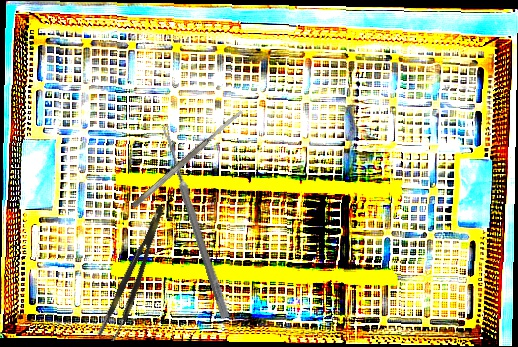Spatula Surgical: (130, 108, 245, 210)
Surgical Spoon: (159, 123, 231, 319)
Tissue Forceps: (96, 204, 177, 343)
